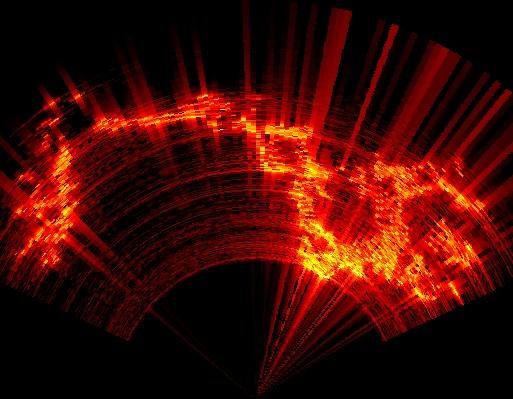shipwreck: (235, 116, 481, 302), (18, 147, 77, 255), (95, 108, 196, 131)
